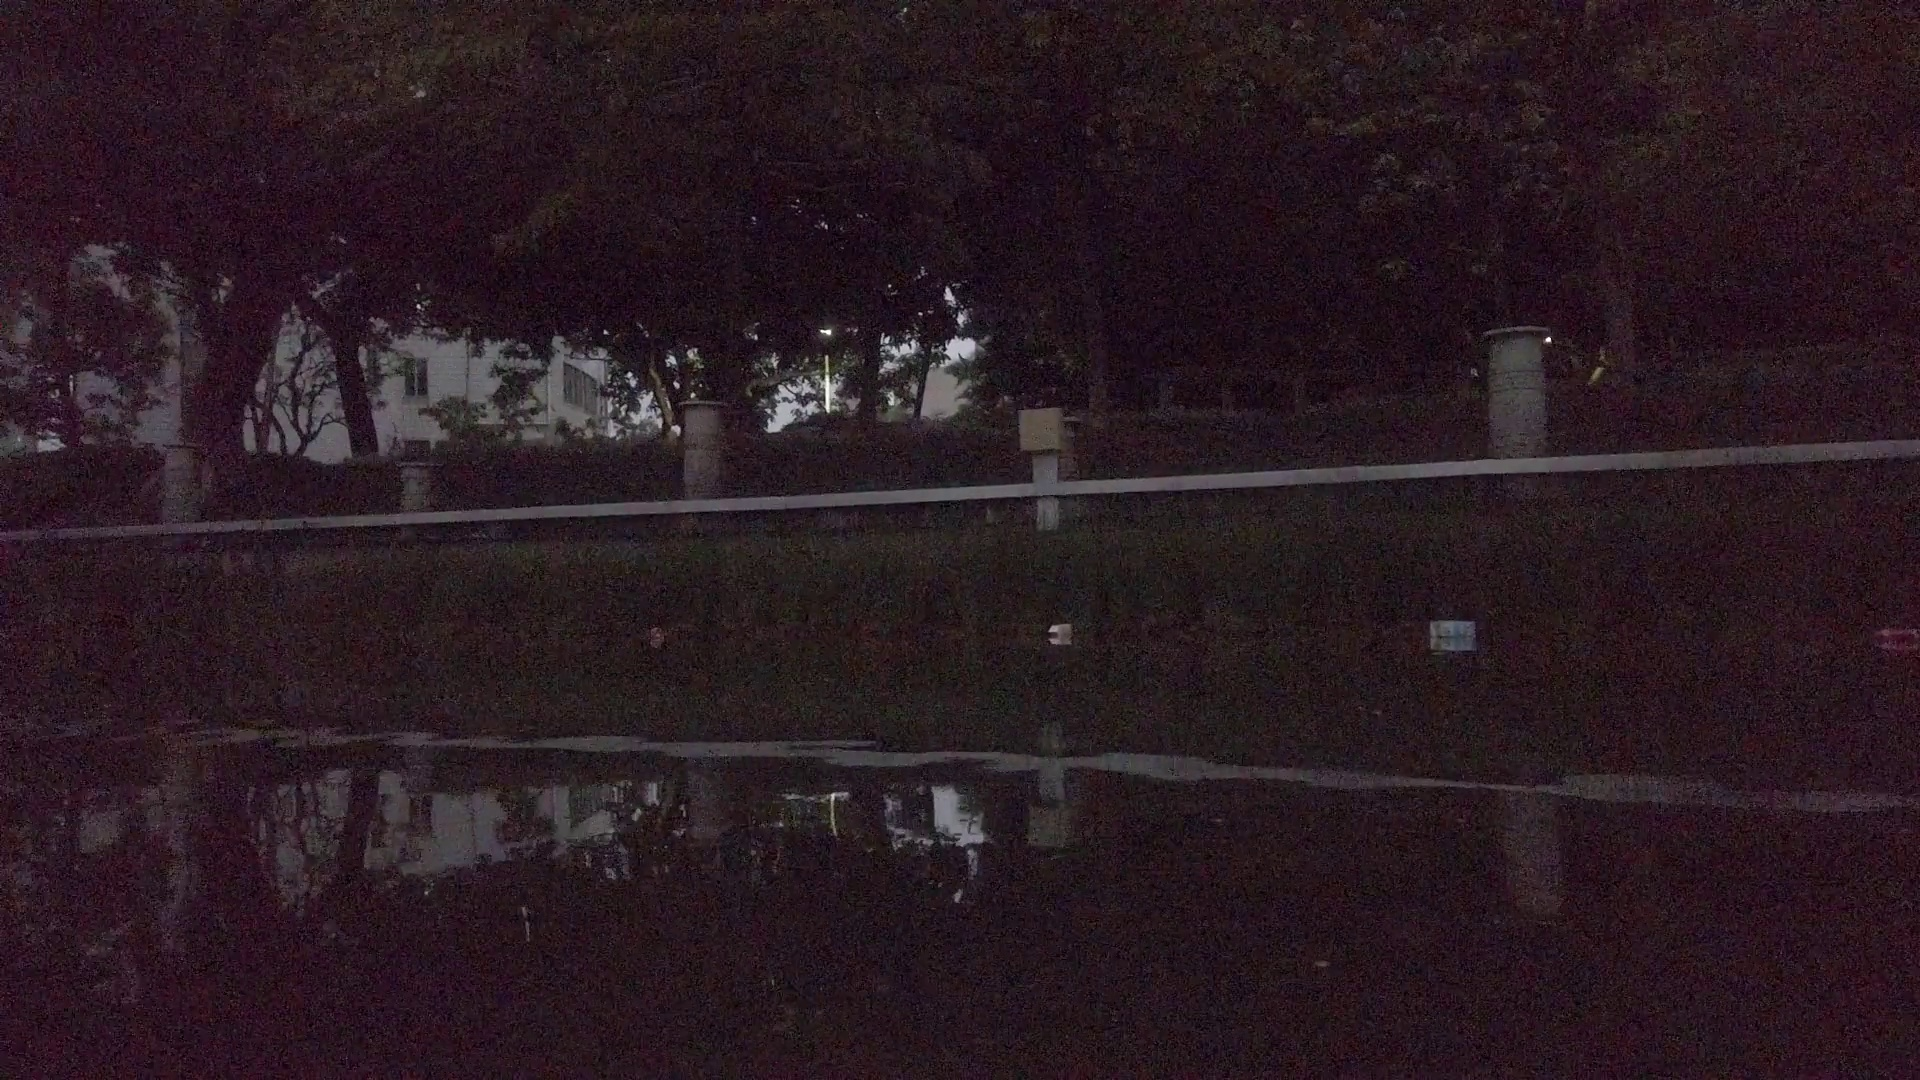bottle: (1878, 628, 1917, 647), (644, 622, 673, 646)
carton: (1428, 617, 1478, 646), (1048, 622, 1073, 640)
